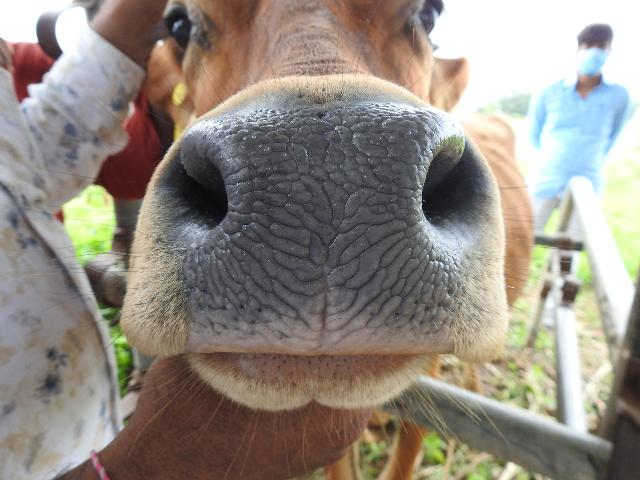Muzzle: (197, 114, 458, 352)
